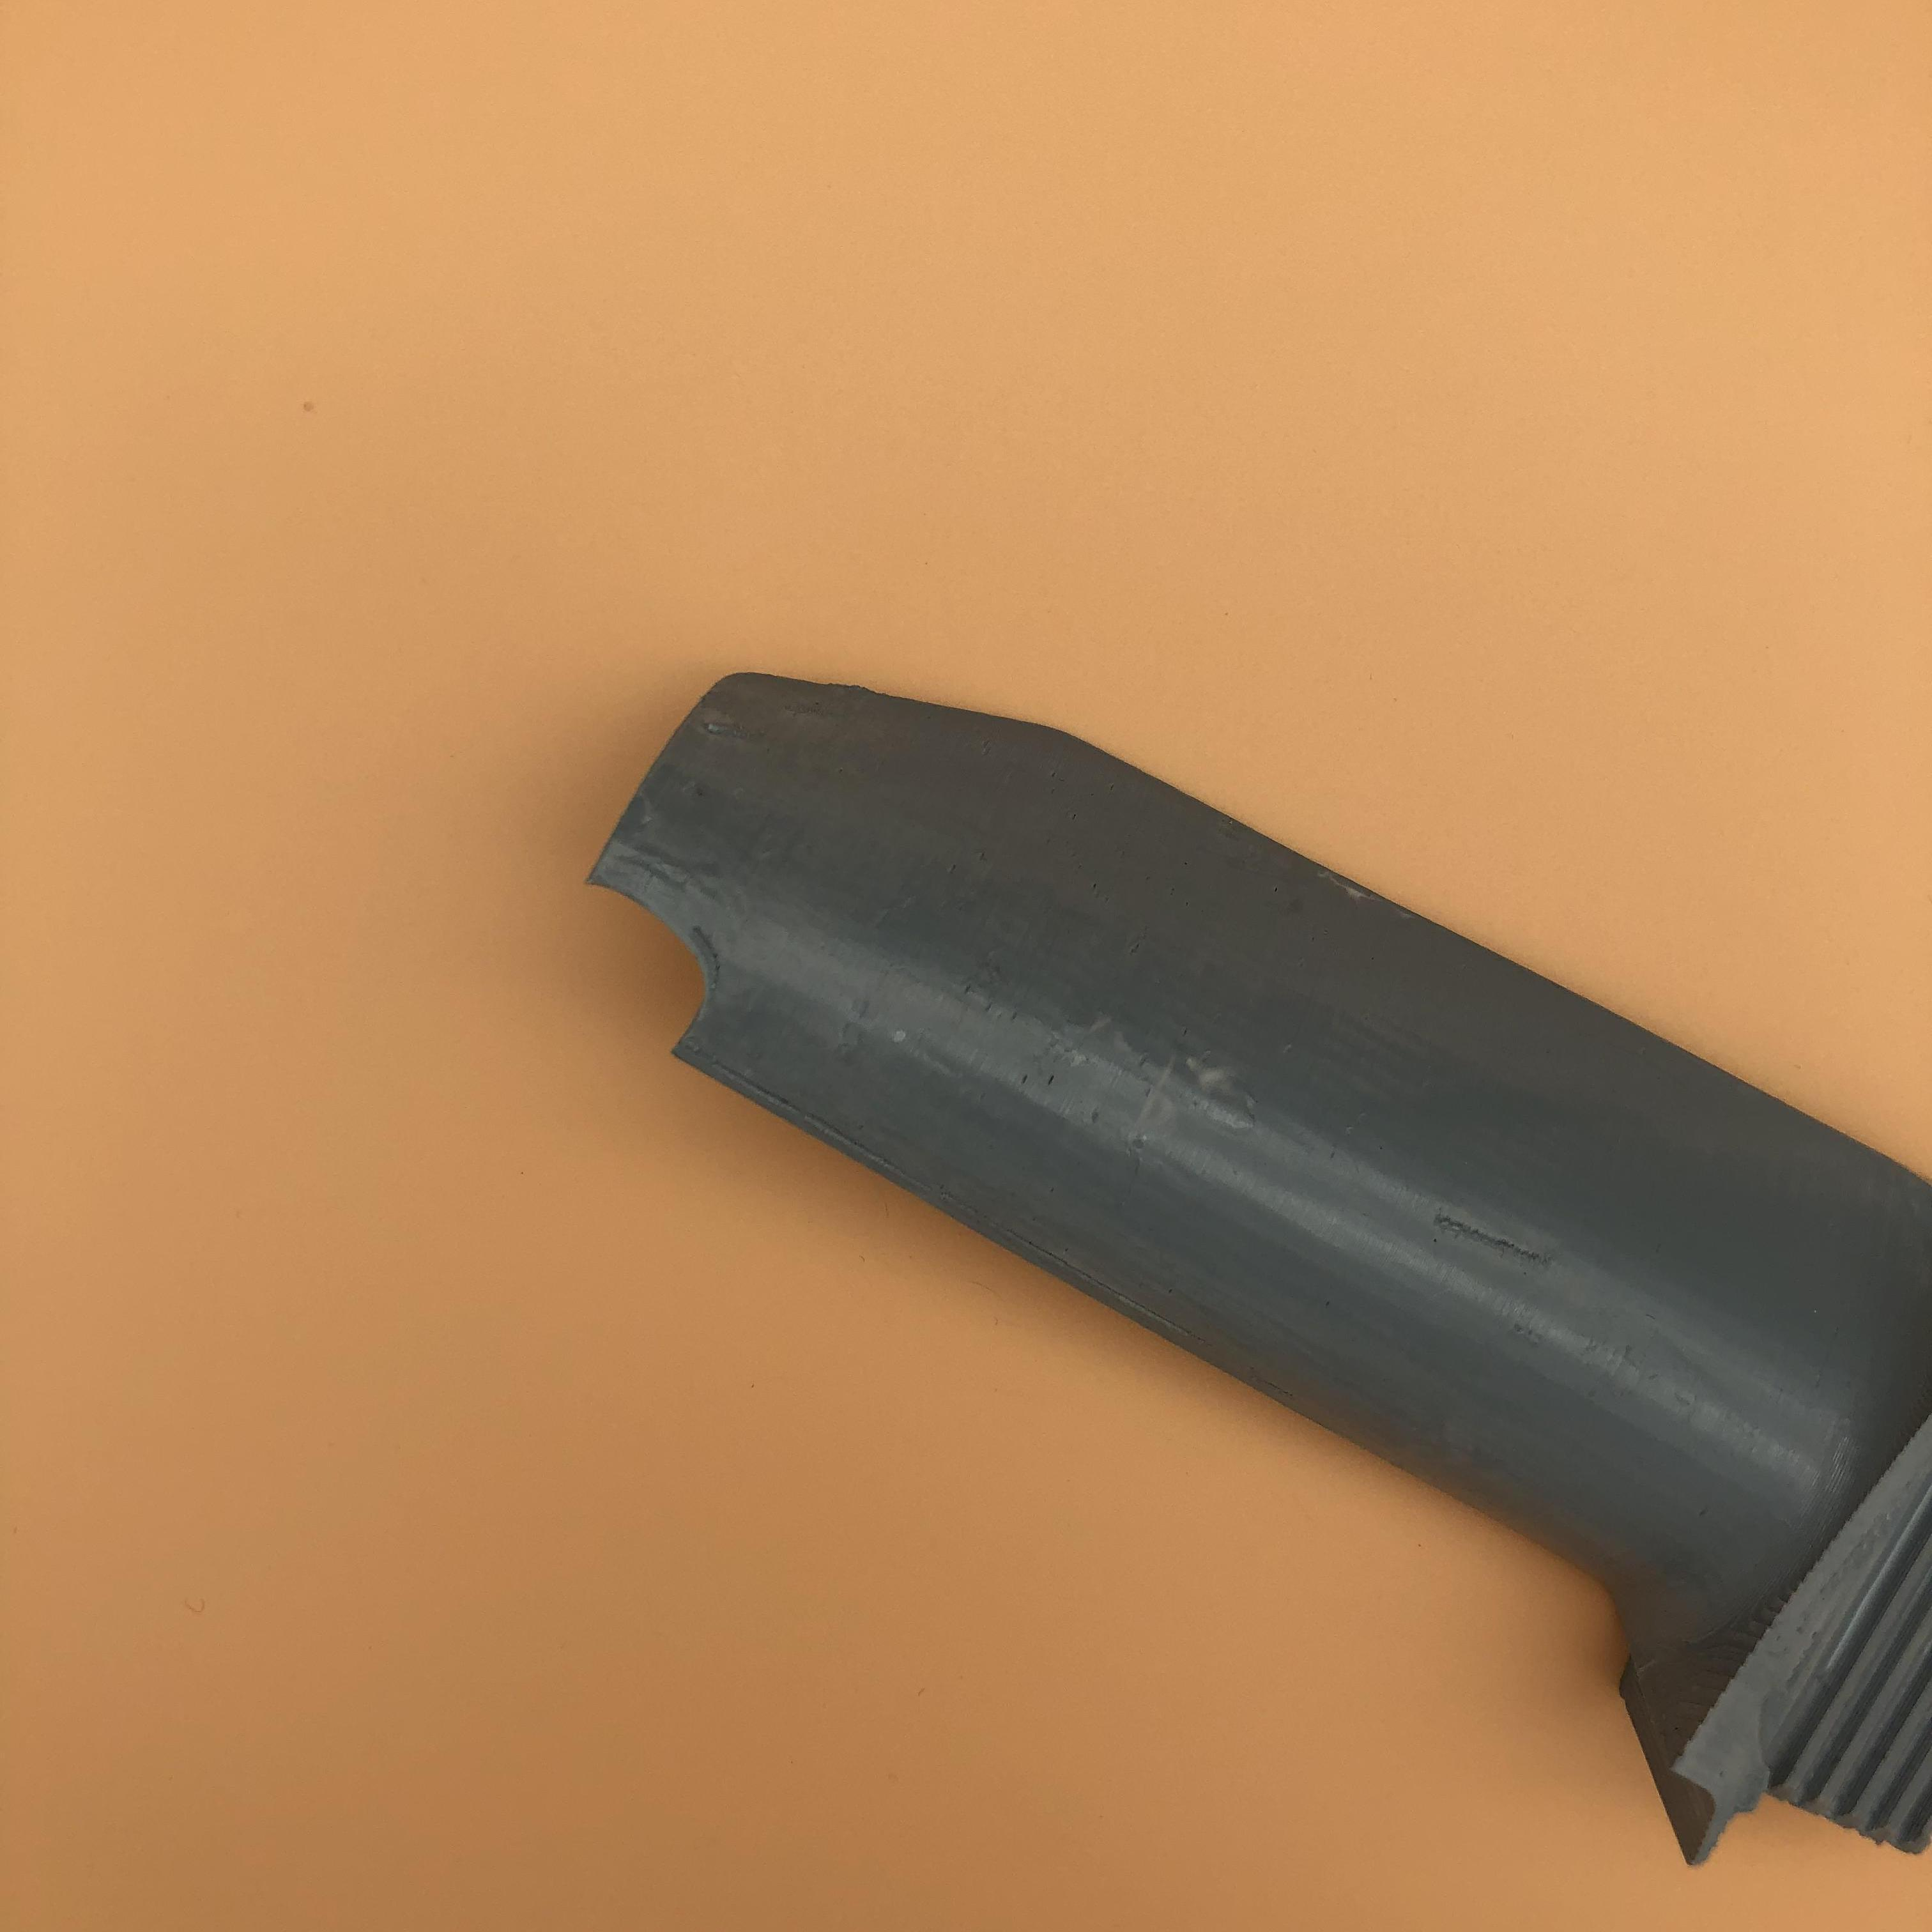fracture: (593, 870, 736, 1062)
